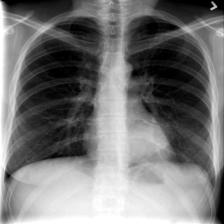normal: (2, 14, 222, 193)
